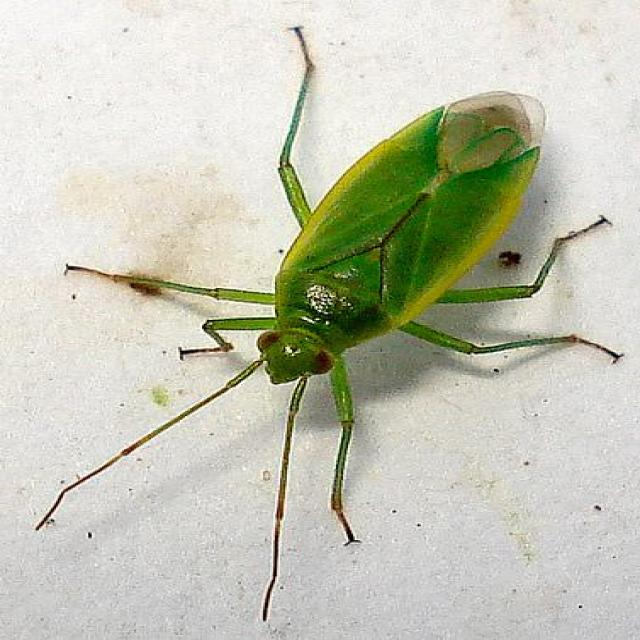Miridae-Adult-: (72, 12, 624, 556)
